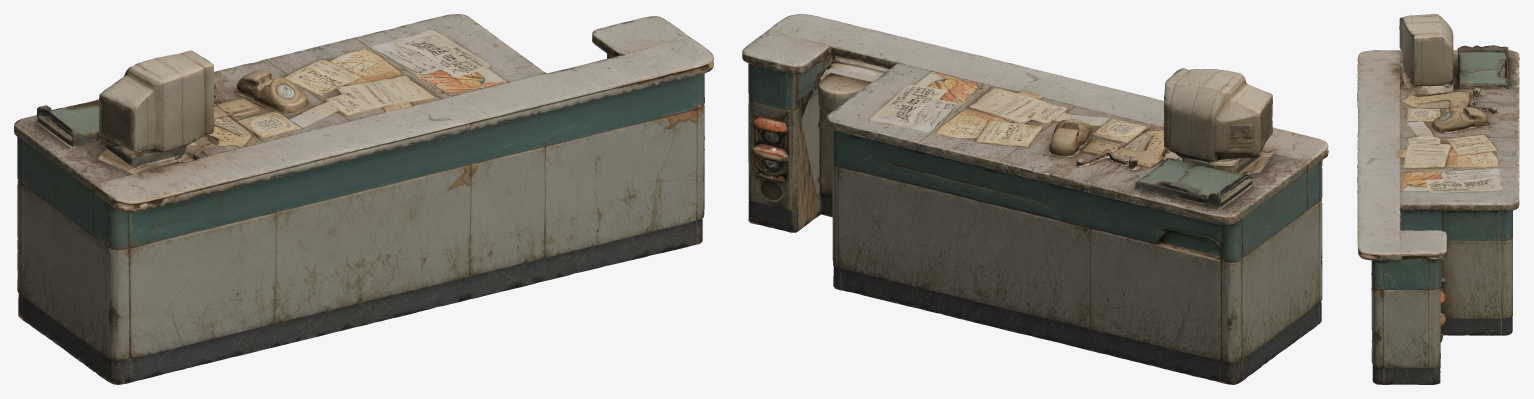
Rendered from NurseCounter.fbx.
3 renders of one model, left to right at view 1: azimuth 30°, elevation 25°; view 2: azimuth 150°, elevation 25°; view 3: azimuth 270°, elevation 25°, orthographic. The views are drawn at different scales.
Parts seen in each view (by area): view 1: texture_mapping; view 2: texture_mapping; view 3: texture_mapping.
Part boxes in pixels (x1,y1,x2,y2): texture_mapping: (14,14,713,384); texture_mapping: (742,14,1328,384); texture_mapping: (1357,14,1519,384).
Bounding box in the file's own units: 0.992 × 0.3324 × 0.4329.
Materials: 1 (1 with a texture image).
